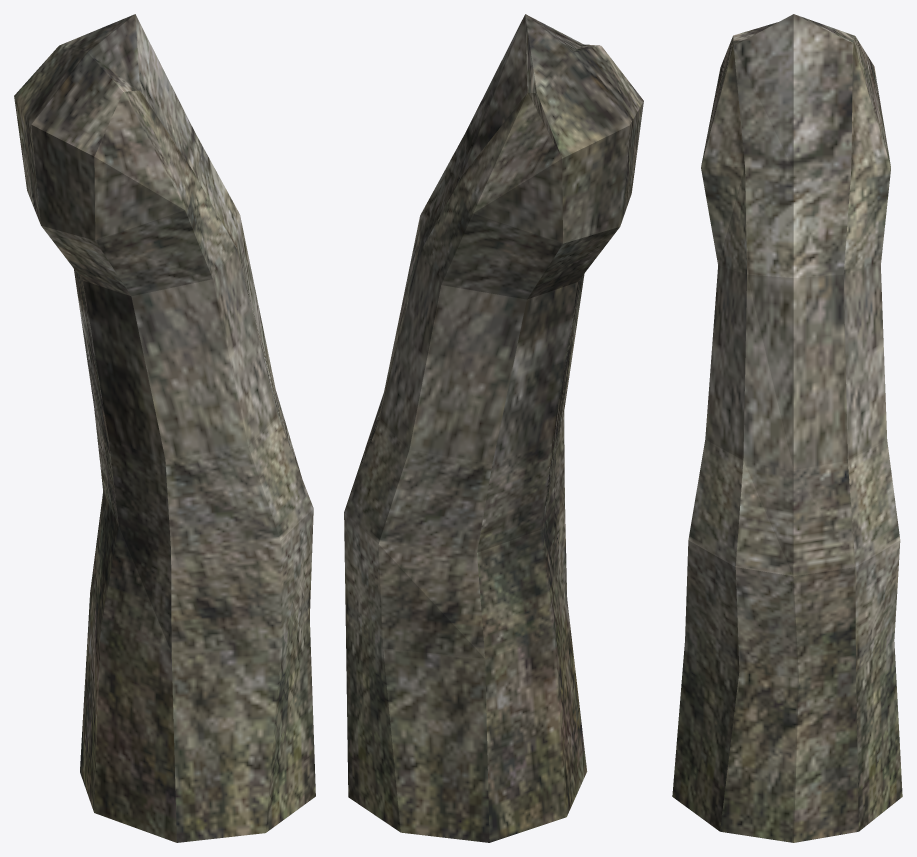
3 views of the same model, side by side, from view 1: azimuth 30°, elevation 25°; view 2: azimuth 150°, elevation 25°; view 3: azimuth 270°, elevation 25° (orthographic). The views are drawn at different scales.
Parts seen in each view (by area): view 1: Shape02; view 2: Shape02; view 3: Shape02.
Part boxes in pixels (left/top/right/bottom): Shape02: left=14, top=14, right=315, bottom=842; Shape02: left=344, top=14, right=643, bottom=842; Shape02: left=672, top=14, right=902, bottom=842.
Bounding box in the file's own units: 5.13 × 14.24 × 3.95.
Materials: 1 (1 with a texture image).
